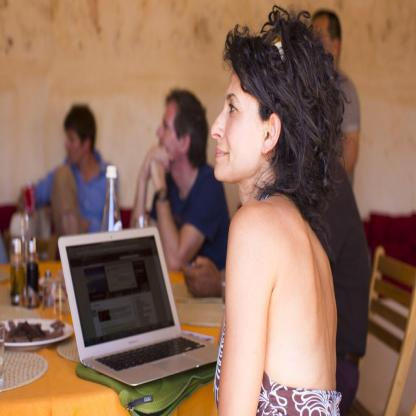board: (59, 221, 209, 405), (101, 162, 125, 232), (26, 233, 40, 306), (9, 236, 24, 304)
